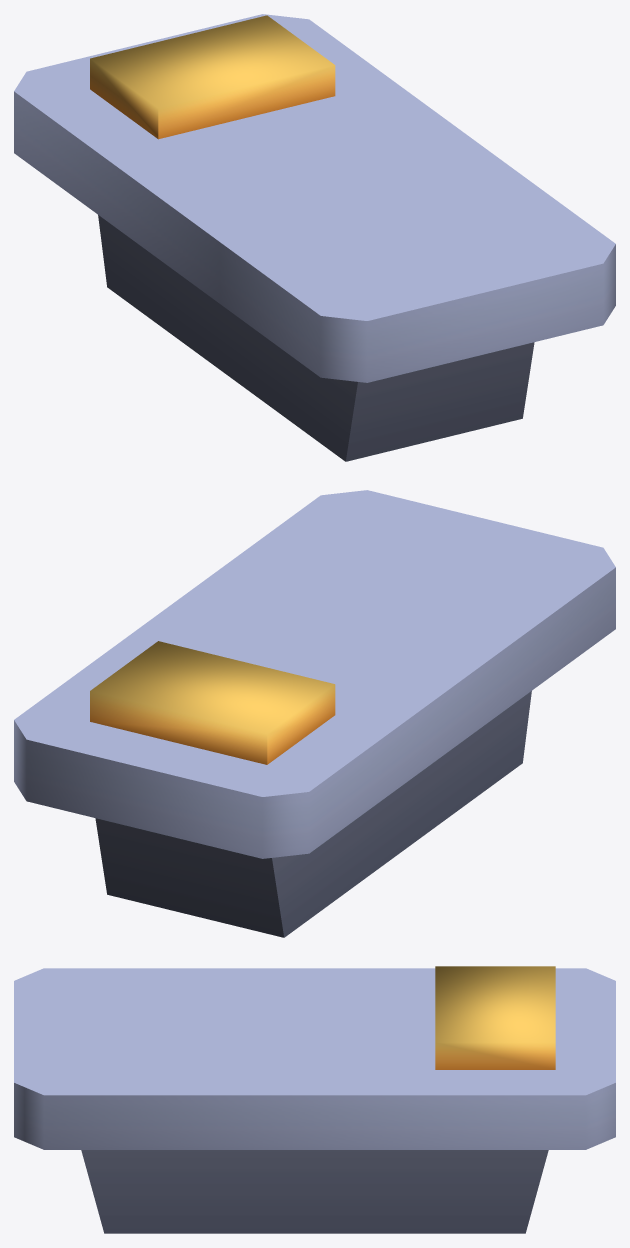
File: kenney-space-station-bed-single.glb
The picture shows the model from 3 angles, top to bottom: view 1: azimuth 30°, elevation 25°; view 2: azimuth 150°, elevation 25°; view 3: azimuth 270°, elevation 25°; orthographic projection. The views are drawn at different scales.
Visible parts, largest first — view 1: bed-single; view 2: bed-single; view 3: bed-single.
Part boxes in pixels (box(x1,y1,x2,y2)): bed-single: box(14, 14, 615, 461); bed-single: box(14, 490, 615, 937); bed-single: box(14, 966, 615, 1233).
Size of the model in its own units: 0.5001 by 0.35 by 1.
Materials: 1 (1 with a texture image).
